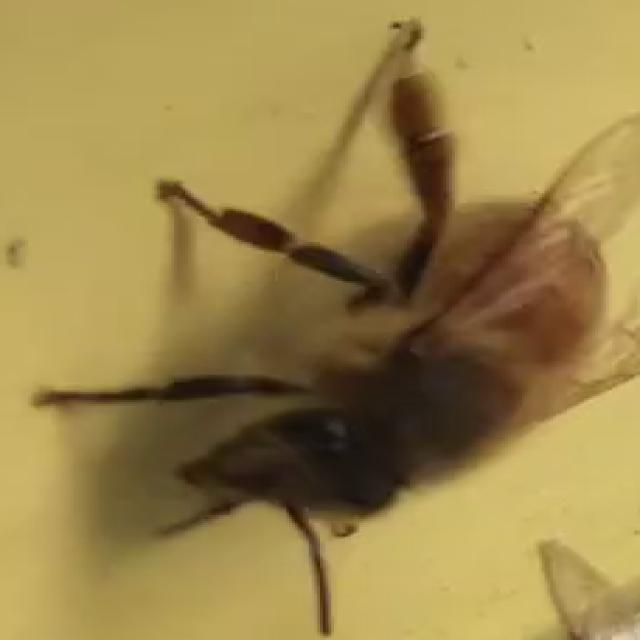honeybee: (145, 78, 640, 606)
